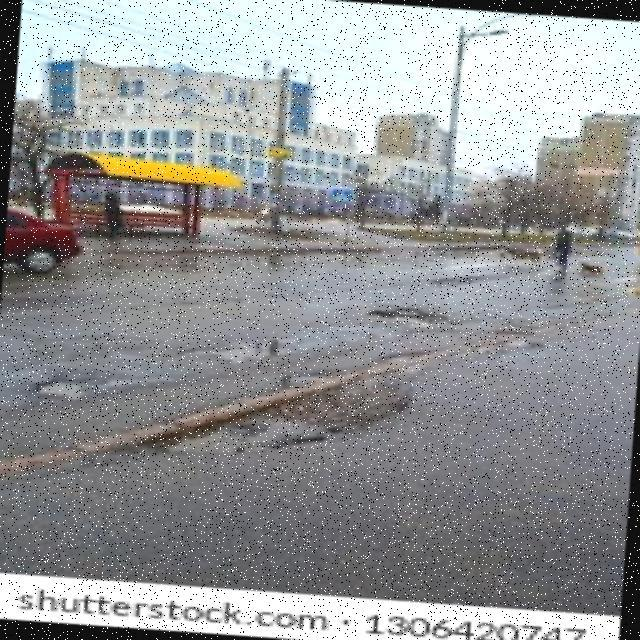Pothole: (110, 383, 415, 459), (363, 306, 447, 328), (435, 273, 502, 288)
